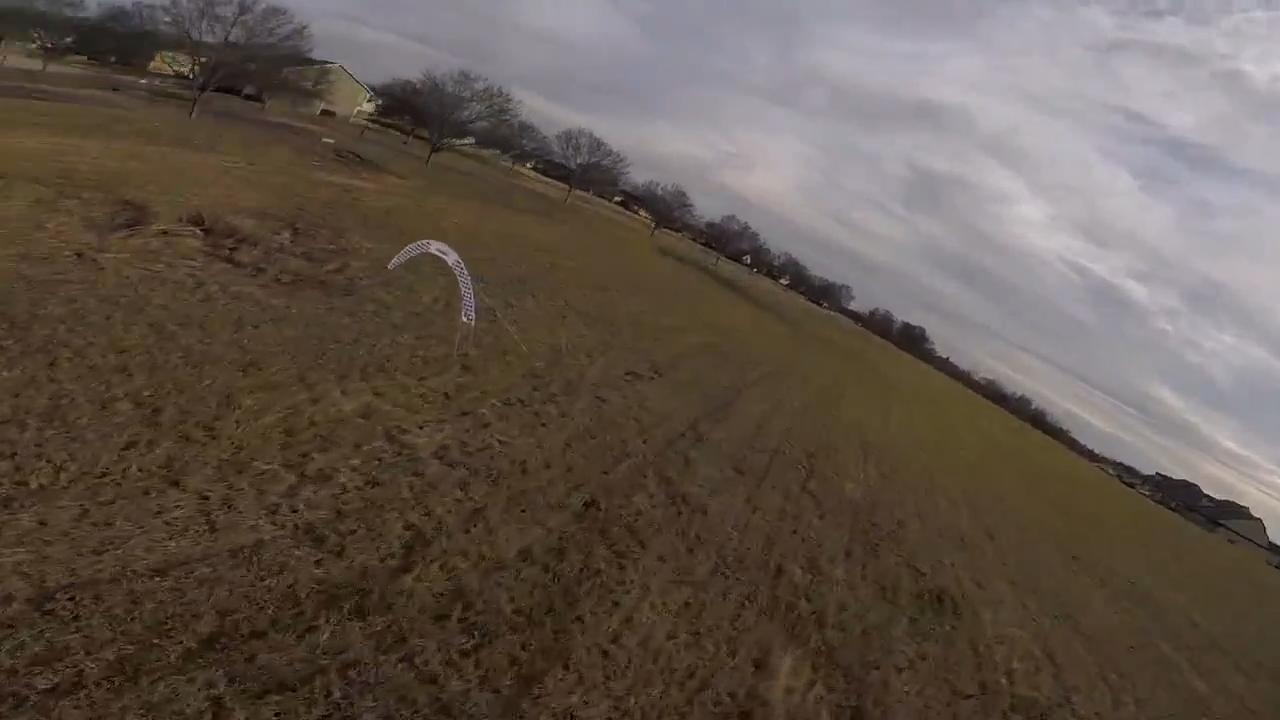gate: (385, 236, 478, 333)
